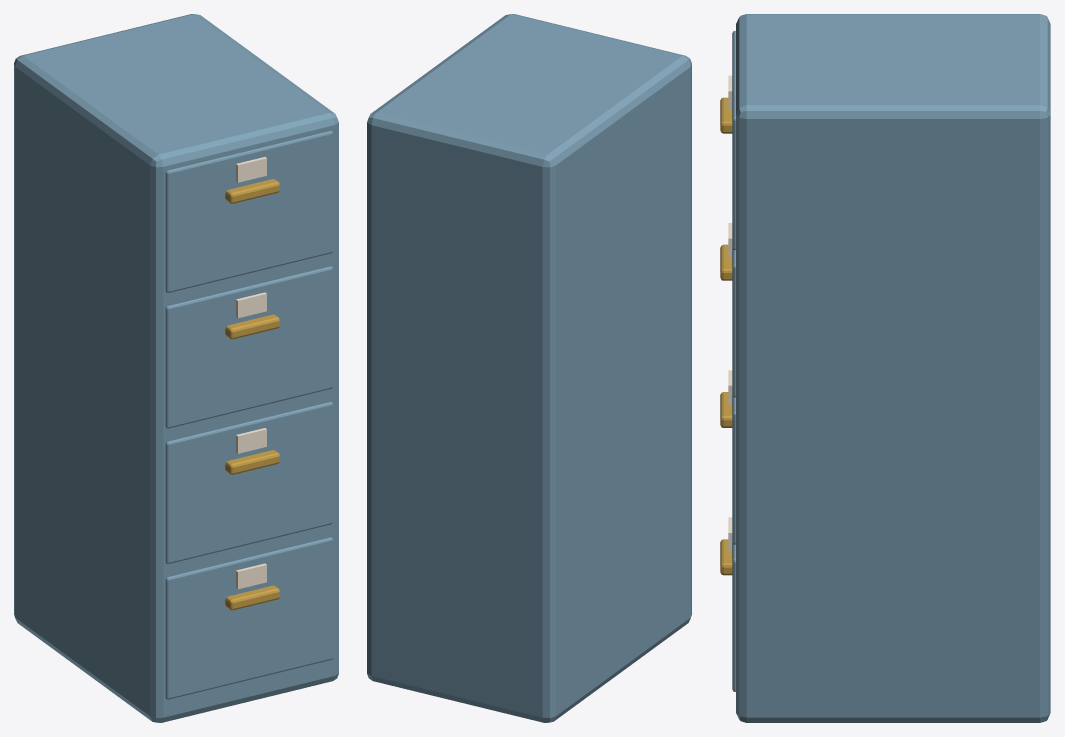
File: filing_cabinet.glb
3 renders of one model, left to right at view 1: azimuth 30°, elevation 25°; view 2: azimuth 150°, elevation 25°; view 3: azimuth 270°, elevation 25°, orthographic. The views are drawn at different scales.
Parts seen in each view (by area): view 1: filing_cabinet; view 2: filing_cabinet; view 3: filing_cabinet.
Part boxes in pixels (x1=…): filing_cabinet: x1=14, y1=14, x2=338, y2=722; filing_cabinet: x1=367, y1=14, x2=691, y2=722; filing_cabinet: x1=720, y1=14, x2=1050, y2=722.
Size of the model in its own units: 0.45 by 1.3 by 0.63.
